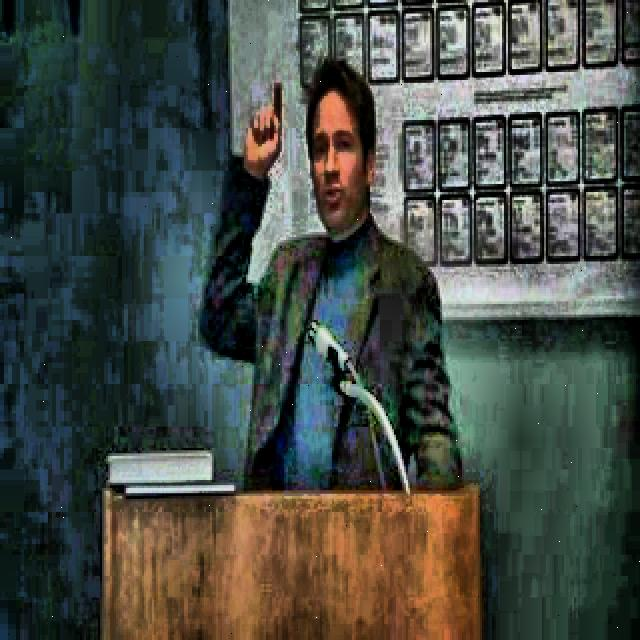T: (187, 57, 462, 495)
